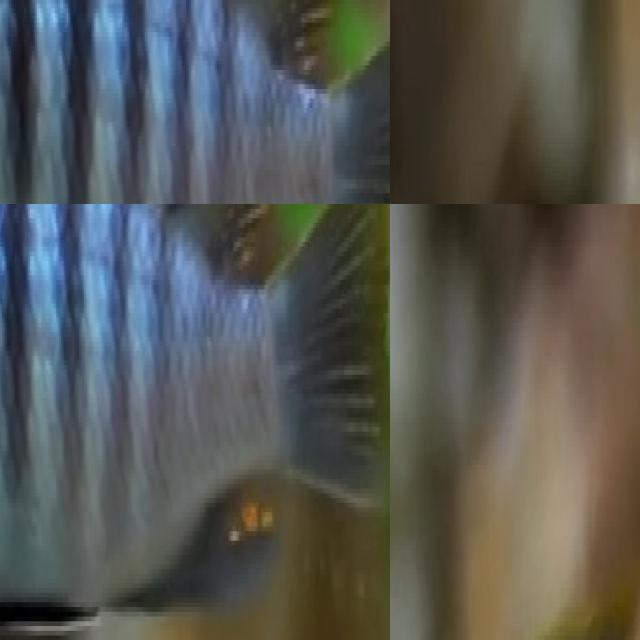fish: (0, 204, 390, 640), (0, 0, 390, 204)
